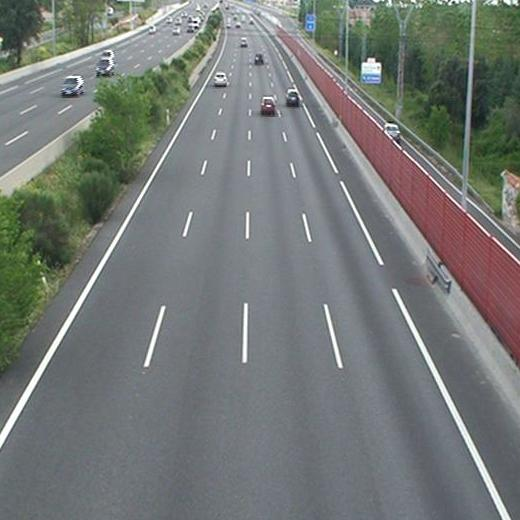car: (261, 97, 276, 112), (287, 90, 300, 104), (213, 73, 226, 85), (254, 51, 263, 61), (239, 39, 247, 49)
